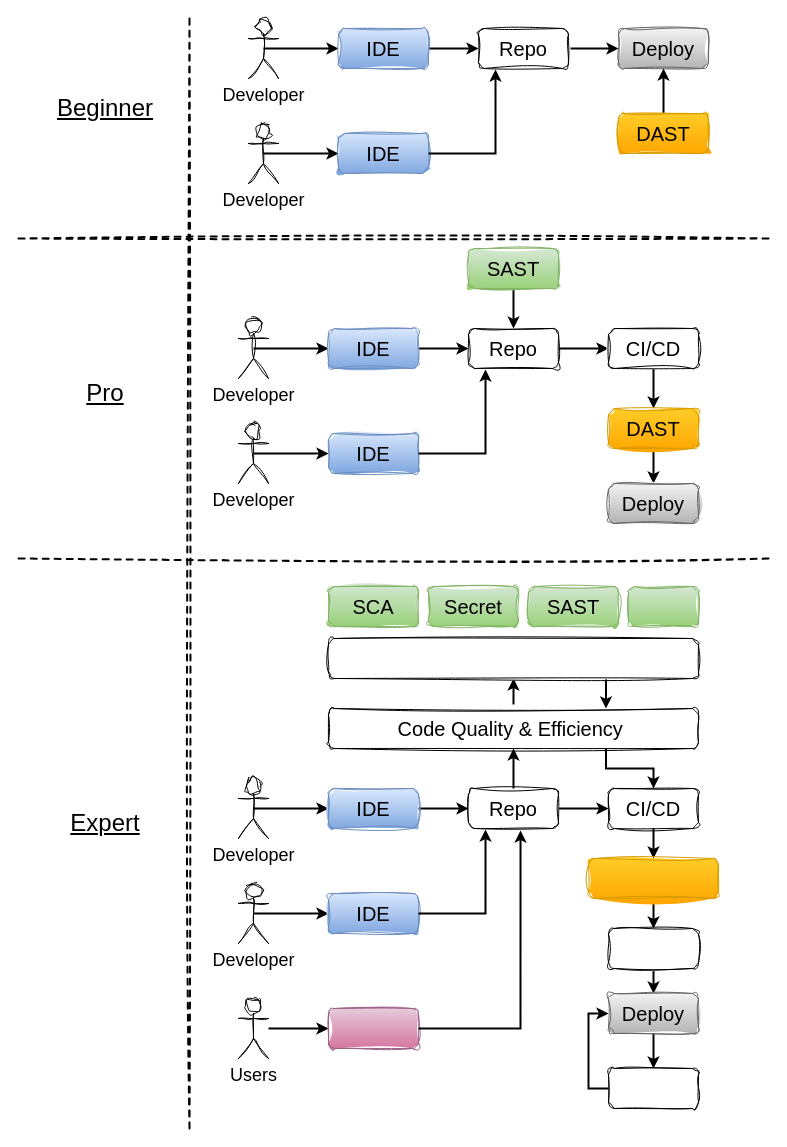
Some shapes in this 787 by 1147 pixel diagram are drawn without their labels. Each missing label, with the centre of its shape:
"Code to Cloud Security" belongs at point 513,658.
"DAST/IAST" belongs at point 653,878.
"GenAI" belongs at point 373,1028.
"GitOps" belongs at point 653,948.
"IaC" belongs at point 663,606.
"o11y" belongs at point 653,1088.
